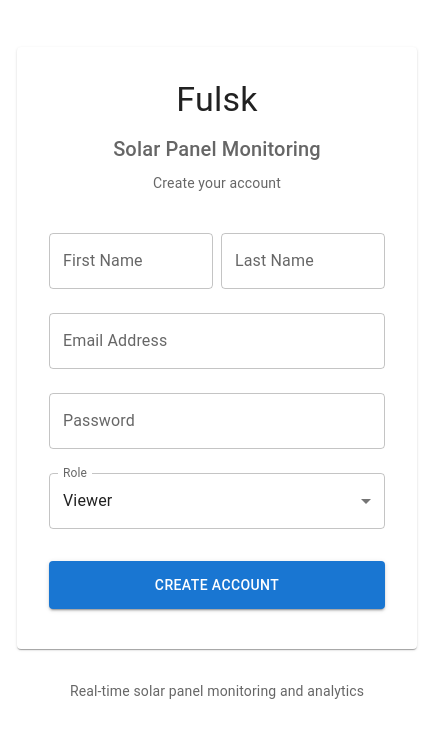
Scenario: RegisterForm › shows validation errors for empty required fields
Click the button "Create Account" at (217, 585), box top-left (49, 561), bottom-right (385, 609)
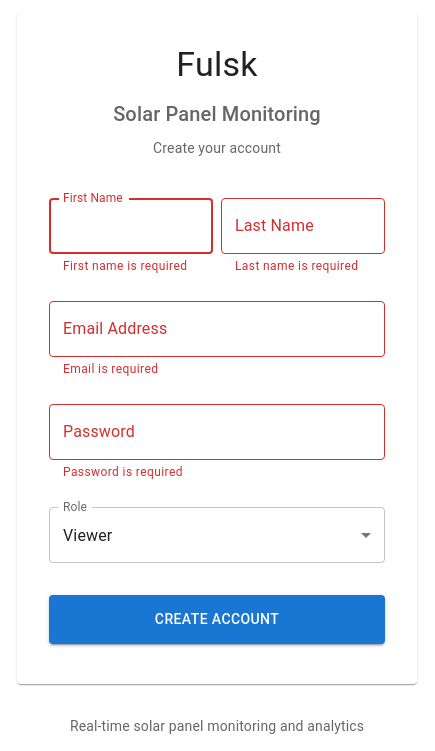
Now the text "First name is required" is shown, box top-left (63, 257), bottom-right (199, 277)
Now the text "Last name is required" is shown, box top-left (235, 257), bottom-right (371, 277)
Now the text "Email is required" is shown, box top-left (63, 362), bottom-right (158, 376)
